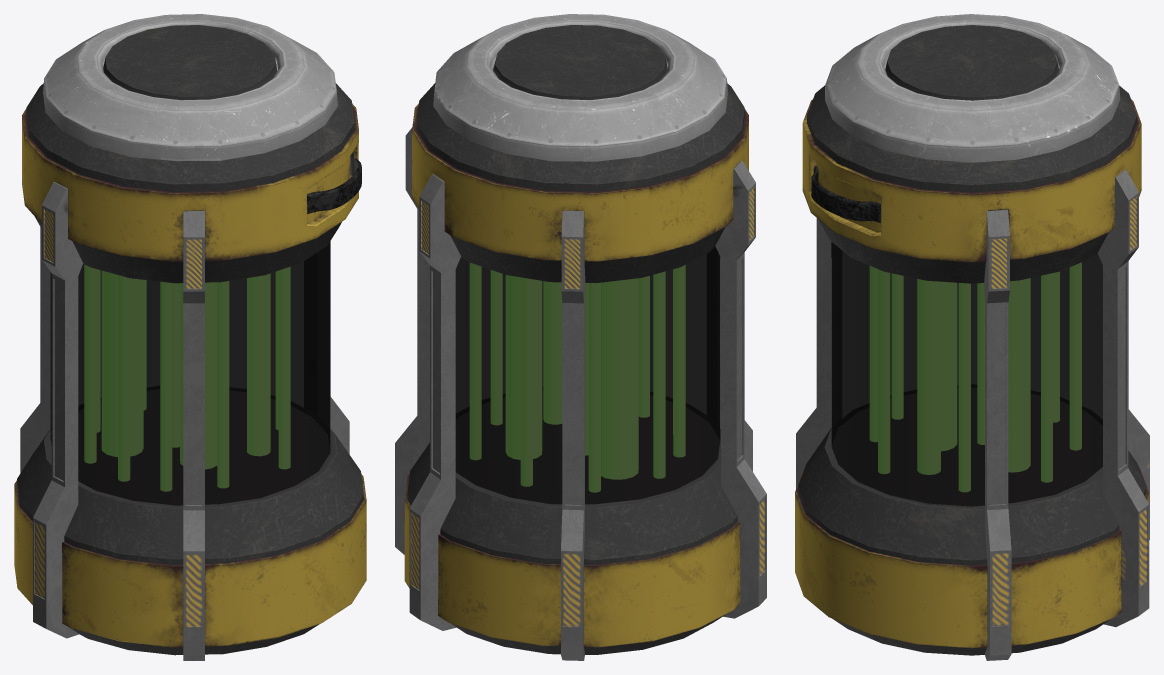
The model's file is battery.glb.
3 views of the same model, side by side, from view 1: azimuth 30°, elevation 25°; view 2: azimuth 150°, elevation 25°; view 3: azimuth 270°, elevation 25° (orthographic).
Parts seen in each view (by area): view 1: Object_2, Object_4, Object_6, Object_5, Object_8, Object_3, Object_7; view 2: Object_2, Object_4, Object_6, Object_5, Object_8, Object_3, Object_7; view 3: Object_2, Object_4, Object_6, Object_5, Object_8, Object_3, Object_7.
Boxes of the visible parts, x1,y1,x2,y2 form: Object_2: [50, 241, 330, 505]; Object_4: [17, 25, 363, 655]; Object_6: [14, 104, 366, 647]; Object_5: [20, 152, 361, 660]; Object_8: [84, 265, 290, 491]; Object_3: [43, 14, 337, 161]; Object_7: [51, 389, 330, 505]; Object_2: [455, 246, 720, 504]; Object_4: [407, 25, 744, 654]; Object_6: [404, 103, 748, 647]; Object_5: [395, 127, 766, 660]; Object_8: [470, 263, 685, 492]; Object_3: [433, 14, 727, 161]; Object_7: [456, 390, 719, 503]; Object_2: [831, 242, 1102, 506]; Object_4: [797, 25, 1146, 655]; Object_6: [795, 99, 1148, 648]; Object_5: [796, 165, 1149, 660]; Object_8: [870, 262, 1081, 491]; Object_3: [825, 14, 1120, 162]; Object_7: [832, 388, 1102, 506].
Bounding box in the file's own units: 3.69 × 5.56 × 3.37.
Materials: 7 (4 with a texture image).
